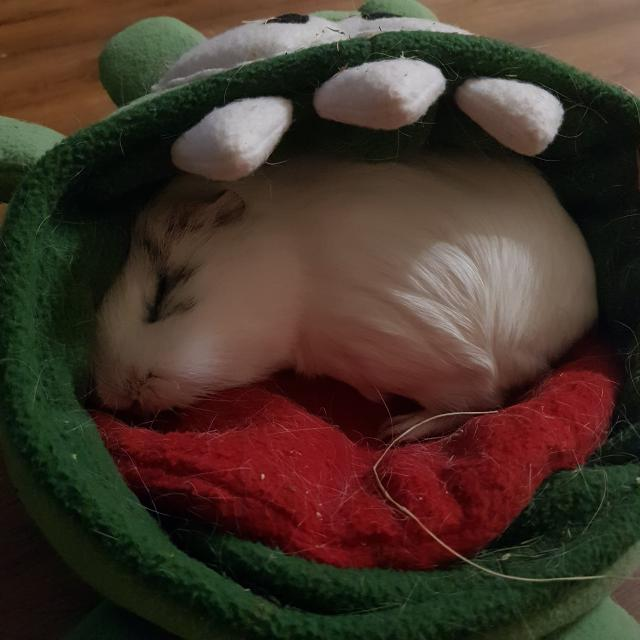guinea pig: (82, 113, 606, 450)
